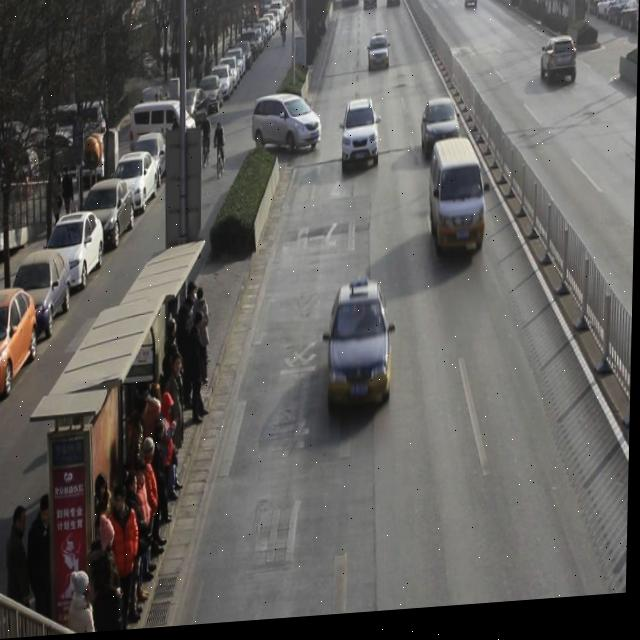car: (330, 284, 396, 417), (343, 104, 382, 178), (423, 103, 464, 169), (540, 42, 579, 94), (369, 41, 391, 78)
truck: (430, 142, 489, 266)
